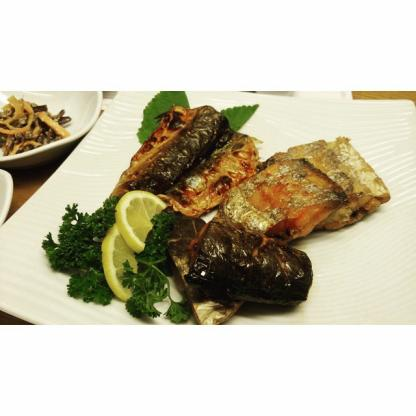Peixe: (102, 105, 257, 230)
